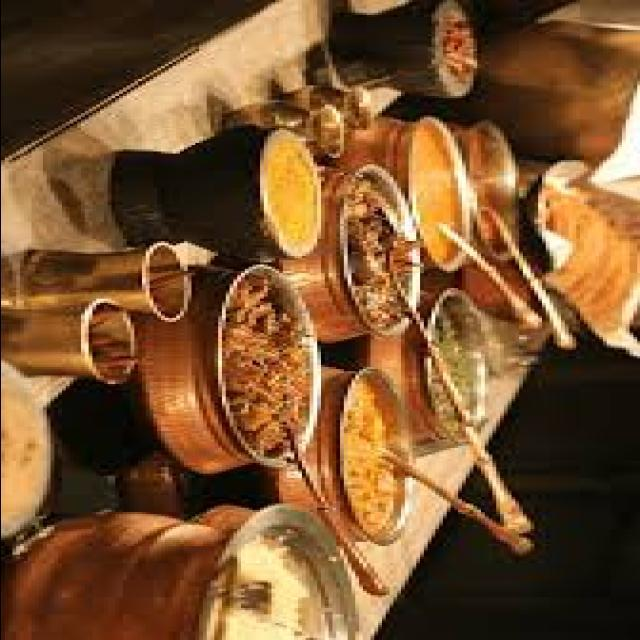dal: (199, 503, 343, 640), (322, 176, 431, 332), (248, 136, 330, 242), (416, 2, 488, 97)
